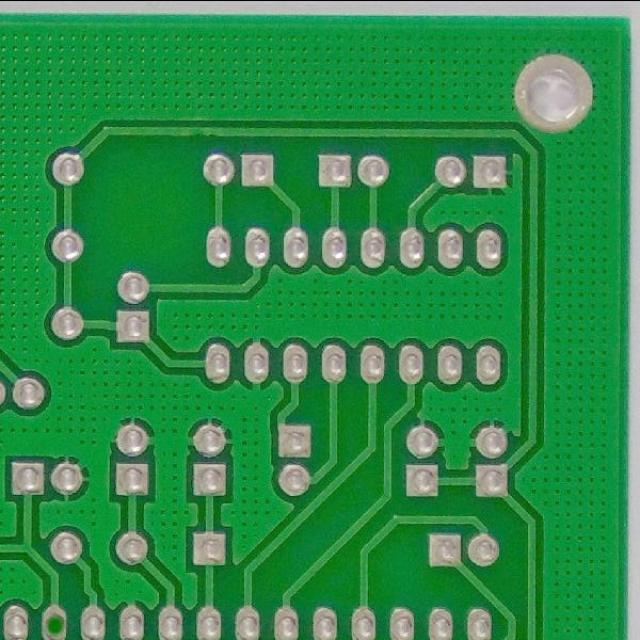missing_hole: (34, 597, 78, 639)
